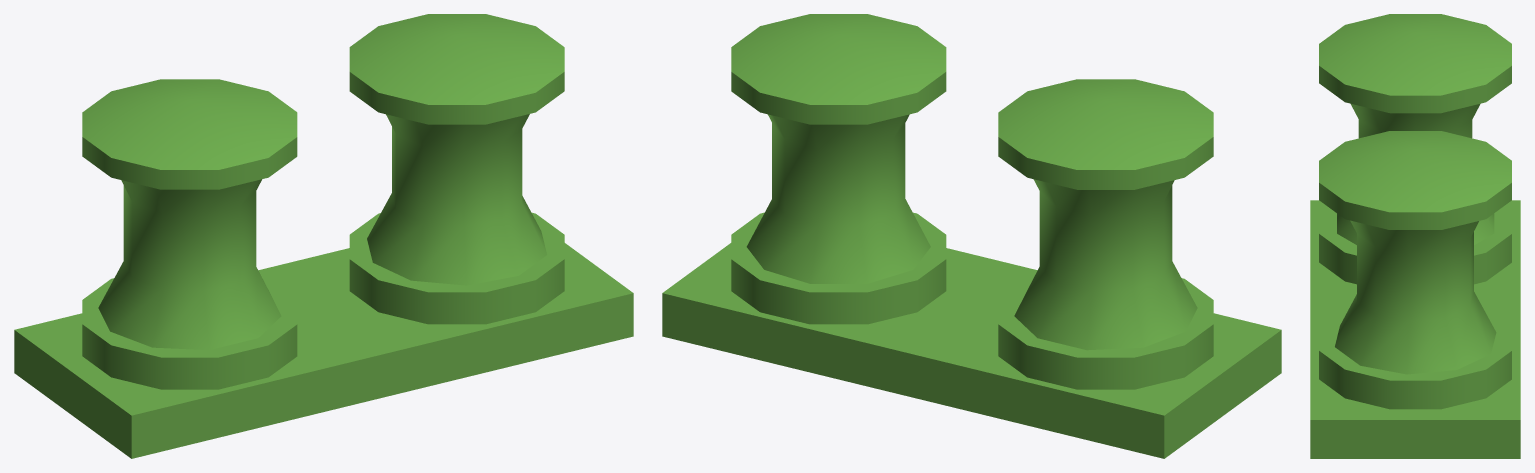
The model's file is bollard.FBX.
The picture shows the model from 3 angles, left to right: view 1: azimuth 30°, elevation 25°; view 2: azimuth 150°, elevation 25°; view 3: azimuth 270°, elevation 25°; orthographic projection. The views are drawn at different scales.
Parts seen in each view (by area): view 1: Box145; view 2: Box145; view 3: Box145.
Part boxes in pixels (x1,y1,x2,y2): Box145: (14, 14, 633, 458); Box145: (662, 14, 1281, 458); Box145: (1310, 14, 1520, 458).
Bounding box in the file's own units: 0.6248 × 0.3411 × 0.2528.
